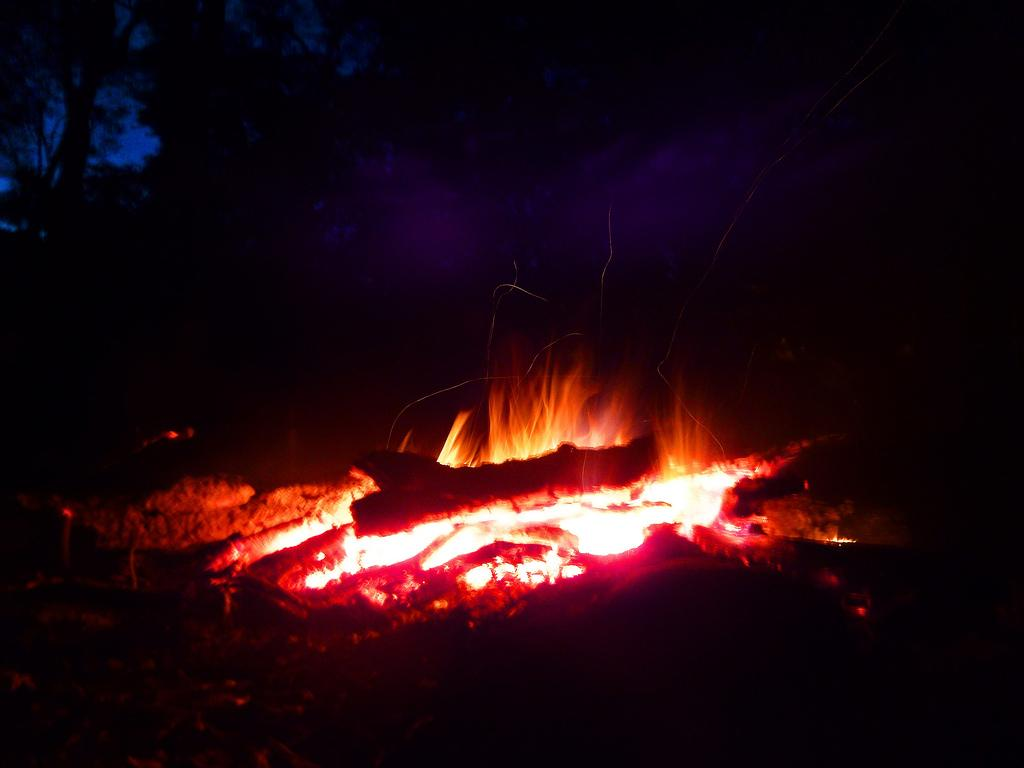fire: (348, 508, 560, 574), (566, 480, 744, 538)
